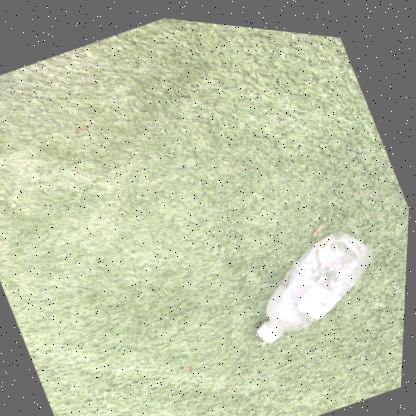Plastic: (259, 223, 374, 334)
